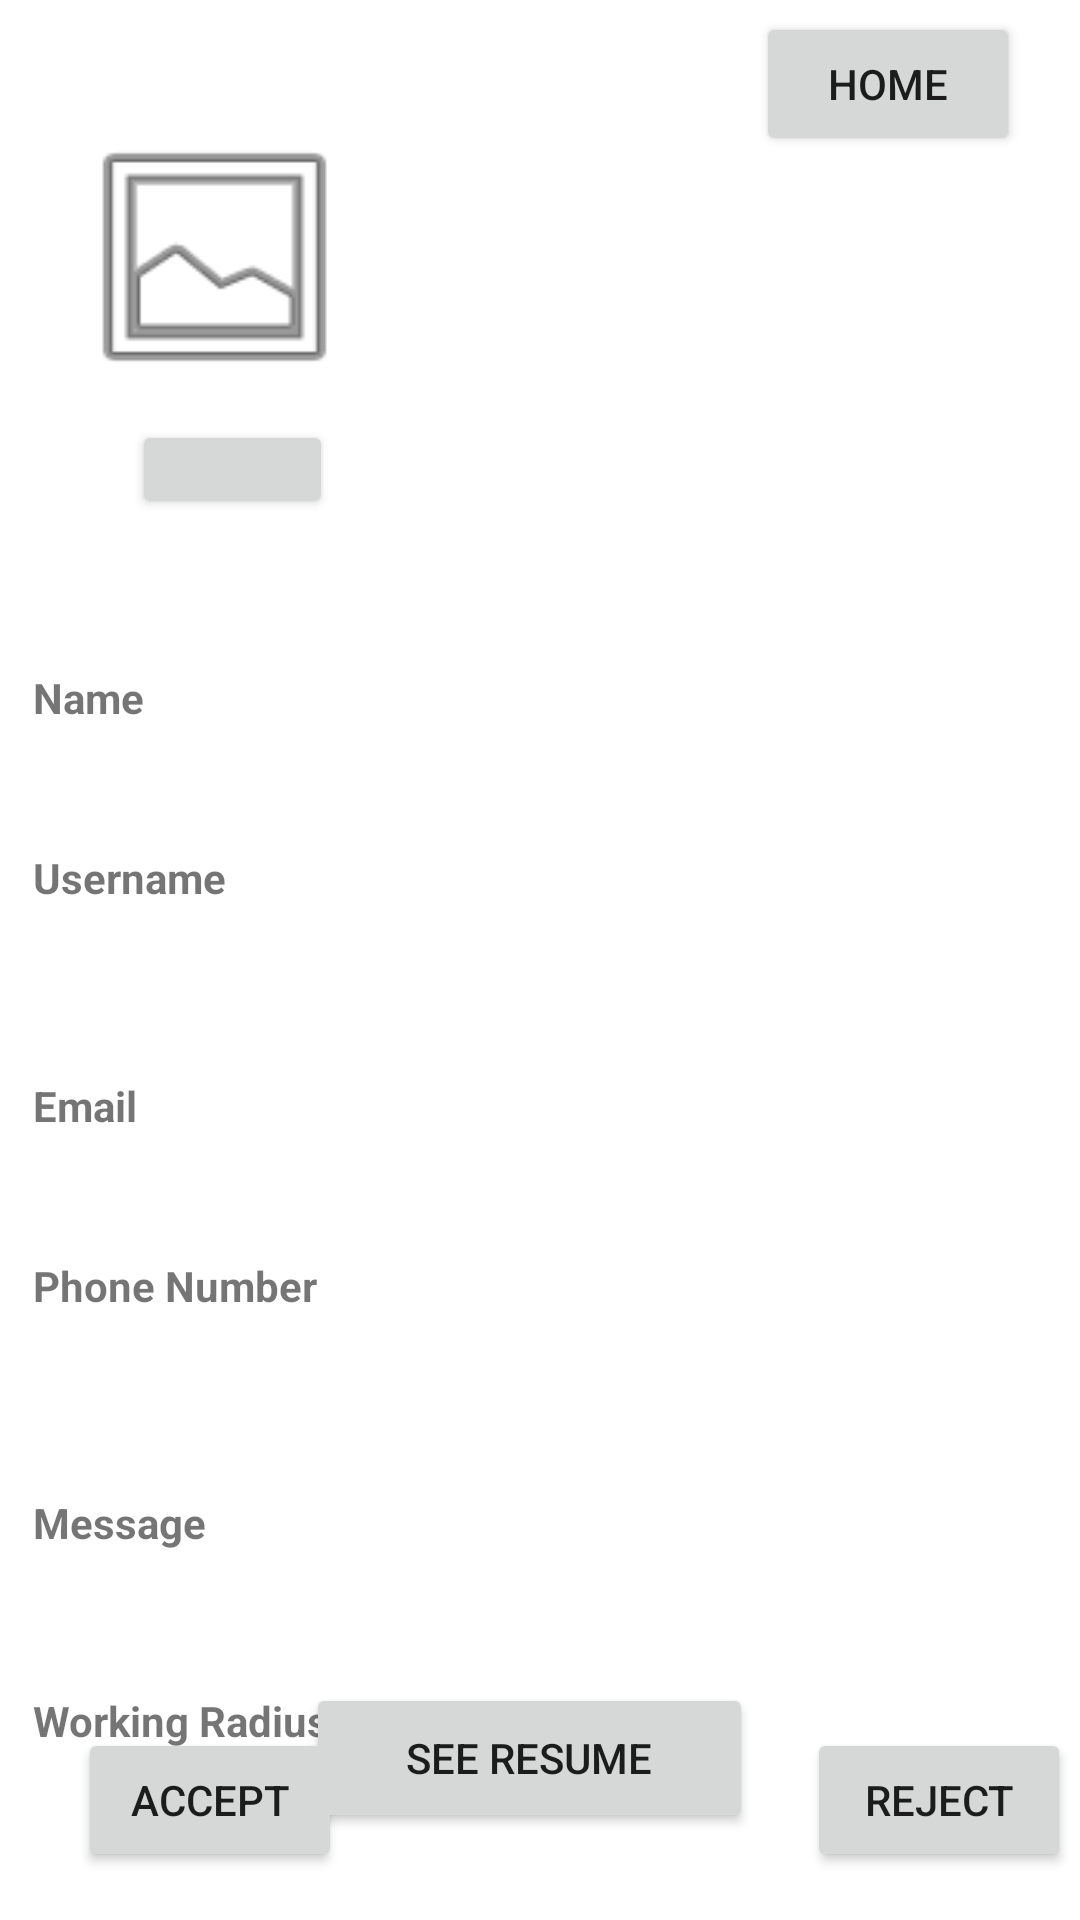

Named icons in this screenshot (1080*1920) and their centers, point (x, y):
gallery: point (214, 257)
